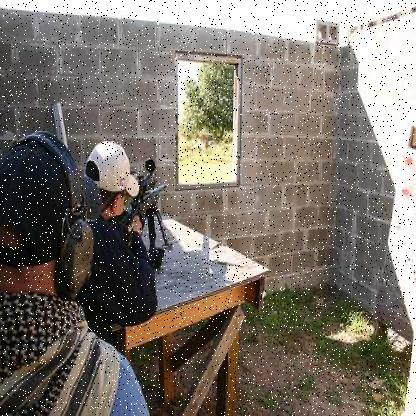rifle: (102, 151, 175, 286)
